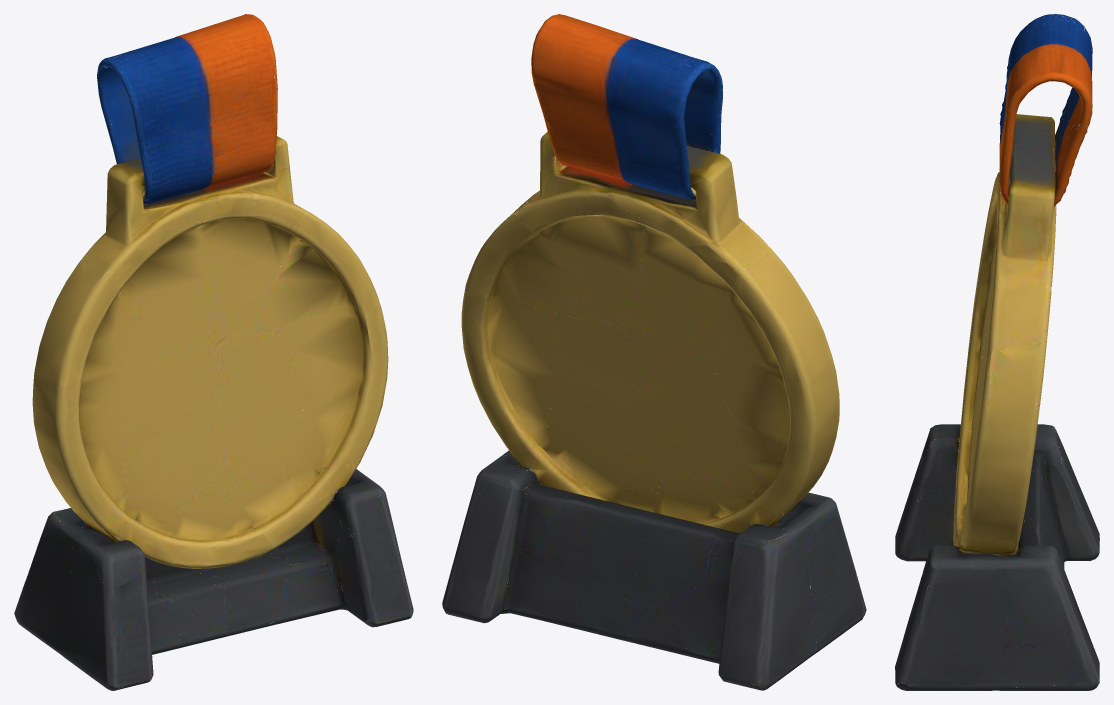
File: medalha.glb
3 renders of one model, left to right at view 1: azimuth 30°, elevation 25°; view 2: azimuth 150°, elevation 25°; view 3: azimuth 270°, elevation 25°, orthographic. The views are drawn at different scales.
Parts seen in each view (by area): view 1: tripo_node_029c2667-46e0-46b1-b6b4-b0959b25a5d8; view 2: tripo_node_029c2667-46e0-46b1-b6b4-b0959b25a5d8; view 3: tripo_node_029c2667-46e0-46b1-b6b4-b0959b25a5d8.
Part boxes in pixels (box(x1,y1,x2,y2)): tripo_node_029c2667-46e0-46b1-b6b4-b0959b25a5d8: box(14, 14, 413, 690); tripo_node_029c2667-46e0-46b1-b6b4-b0959b25a5d8: box(442, 14, 866, 690); tripo_node_029c2667-46e0-46b1-b6b4-b0959b25a5d8: box(895, 14, 1099, 690).
Size of the model in its own units: 0.0732 by 0.12 by 0.0384.
Materials: 1 (1 with a texture image).
